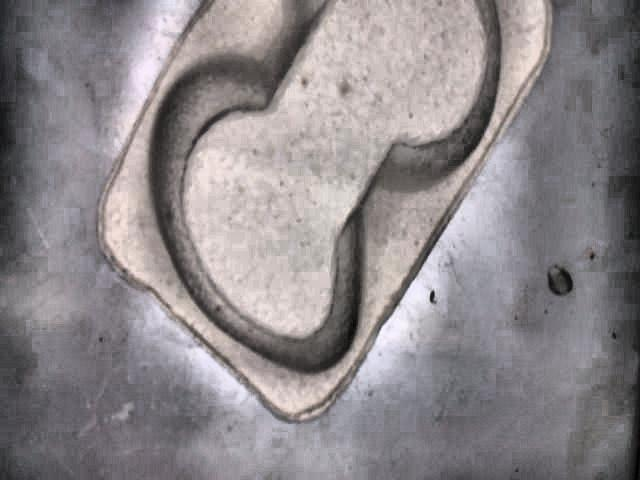Paper: (95, 0, 555, 425)
